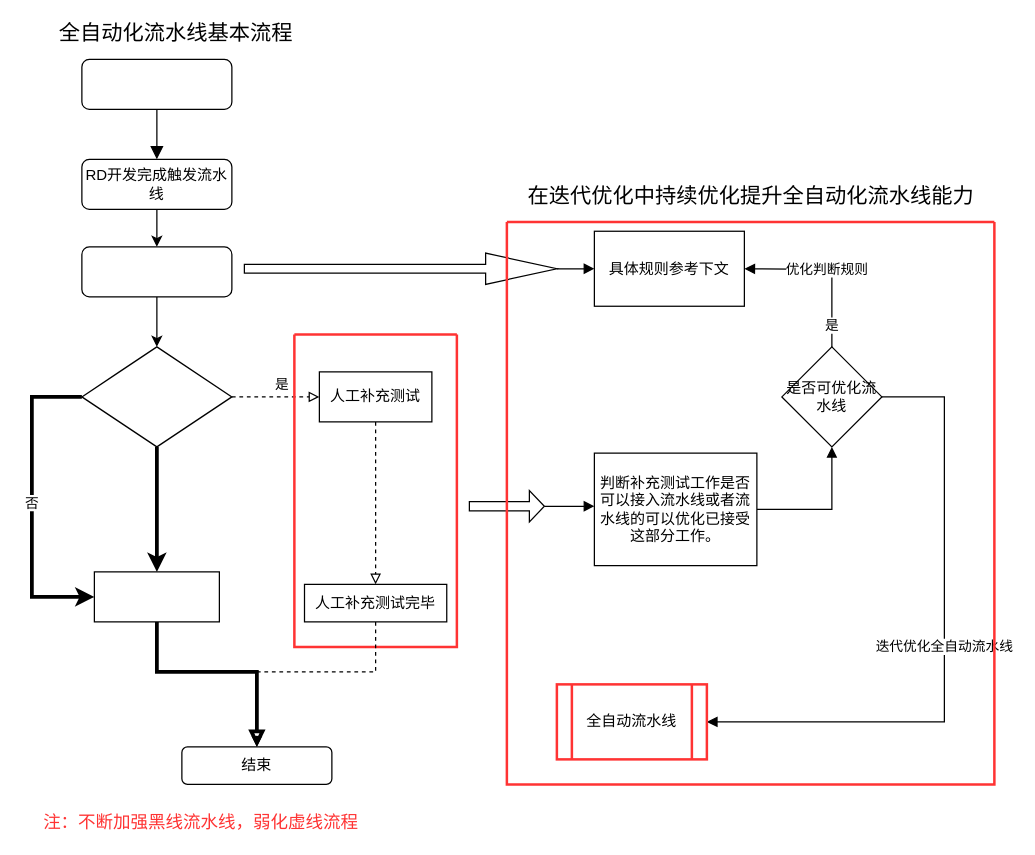
Some shapes in this 1035 by 855 pixel diagram are drawn without their labels. The shapes that lost their labels are listed below. From the top down, each one's box as (x1, y1, x2, y2) in pixels, then its label:
(81, 58, 232, 109): 开始
(81, 246, 232, 297): 流水线中全自动化流水线规则判断
(81, 346, 232, 447): 是否需人工补充测试
(93, 571, 219, 622): 执行全自动流水线
